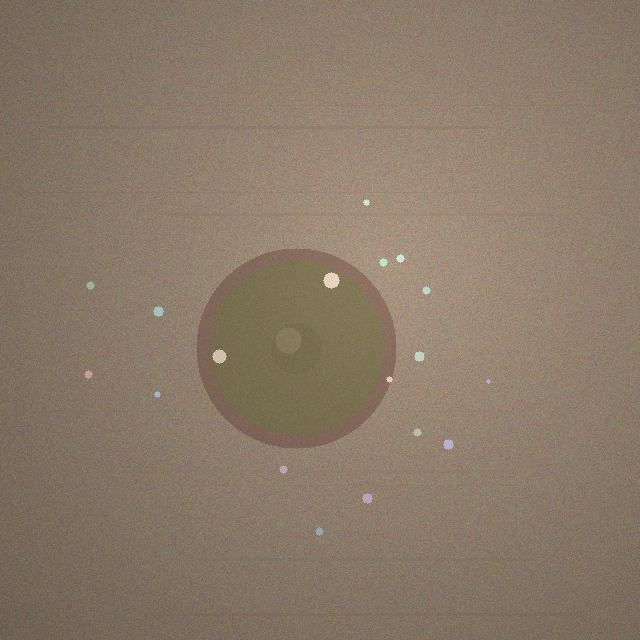overburn: (196, 248, 396, 448)
